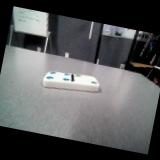domino: (43, 72, 99, 91)
